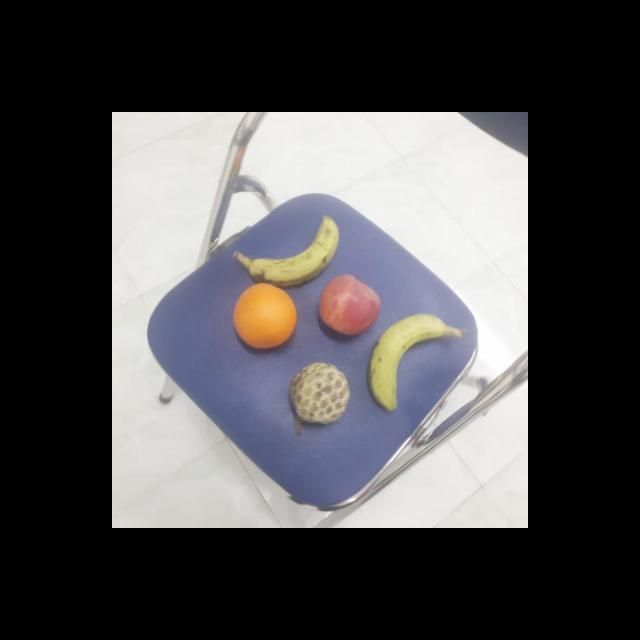Sakya fruit: (286, 362, 355, 424)
apple: (314, 274, 381, 336)
banana: (366, 309, 446, 412), (244, 217, 342, 284)
orange: (232, 280, 300, 350)
